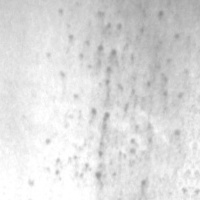pitted_surface: (42, 1, 183, 193)
